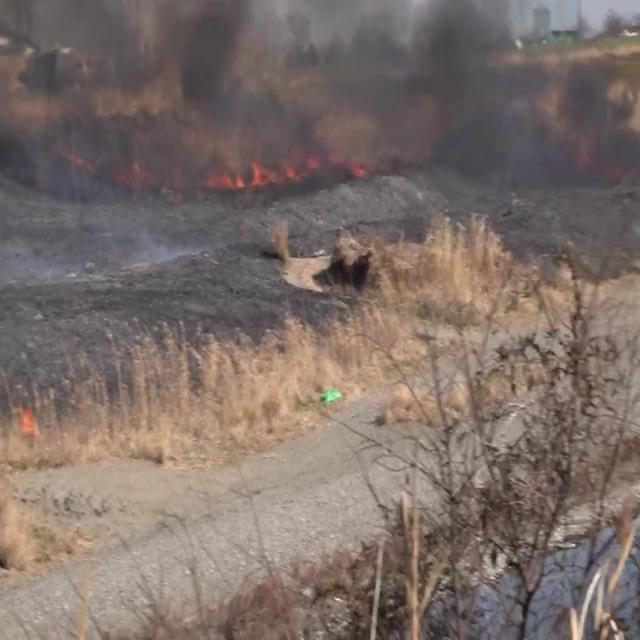Smoke: (14, 0, 638, 243)
